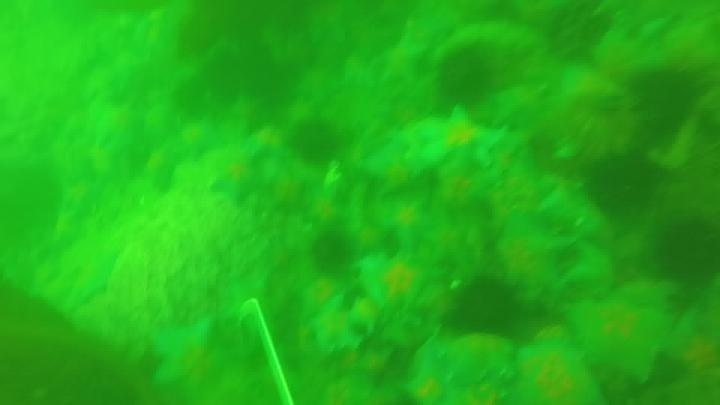echinus: (628, 65, 702, 134), (584, 152, 658, 218), (448, 277, 523, 339), (653, 217, 719, 286), (544, 3, 613, 62), (436, 46, 496, 106), (239, 48, 297, 108), (289, 119, 342, 166), (202, 54, 247, 105), (175, 13, 223, 60), (309, 229, 355, 275), (171, 75, 215, 119), (524, 132, 560, 167)
starfish: (565, 289, 672, 378), (490, 213, 576, 297), (145, 312, 231, 392), (507, 342, 603, 405), (415, 108, 503, 176), (356, 251, 439, 316), (658, 316, 720, 398), (439, 332, 519, 386), (357, 140, 424, 199), (67, 244, 128, 307), (305, 302, 366, 358), (209, 155, 270, 208), (381, 192, 438, 246), (403, 361, 465, 405), (296, 274, 351, 322), (377, 38, 429, 88), (142, 144, 188, 195), (235, 124, 289, 167), (302, 186, 350, 233), (425, 218, 473, 264), (173, 120, 222, 163), (263, 170, 309, 215), (60, 177, 106, 221), (347, 217, 390, 260)
